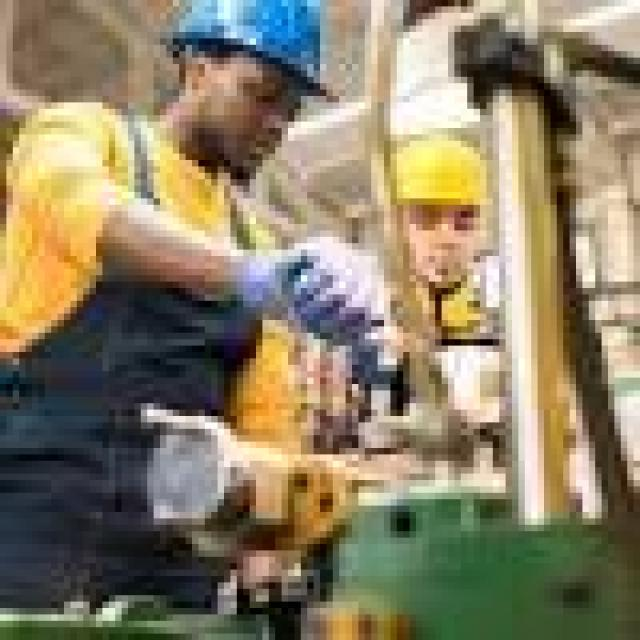Reflective-Jacket: (0, 90, 288, 378)
Safety-Helmet: (153, 0, 352, 102), (365, 128, 512, 224)
